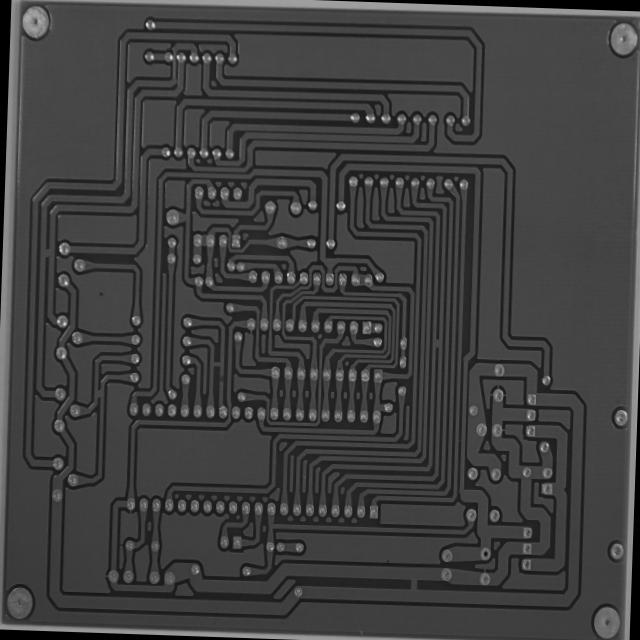short: (398, 572, 426, 597), (37, 240, 56, 264), (208, 356, 225, 374), (92, 384, 106, 402), (429, 336, 443, 350)
